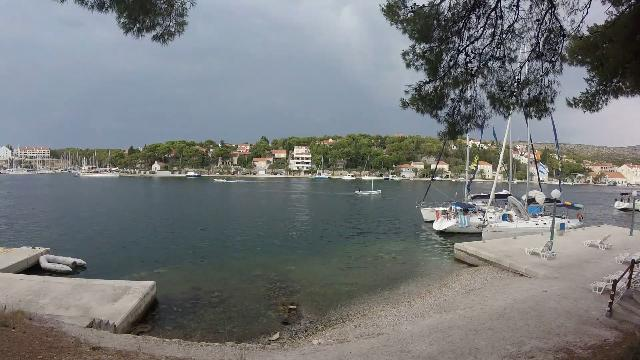Sailboat: (350, 178, 388, 200)
speedboat: (208, 172, 232, 186)
